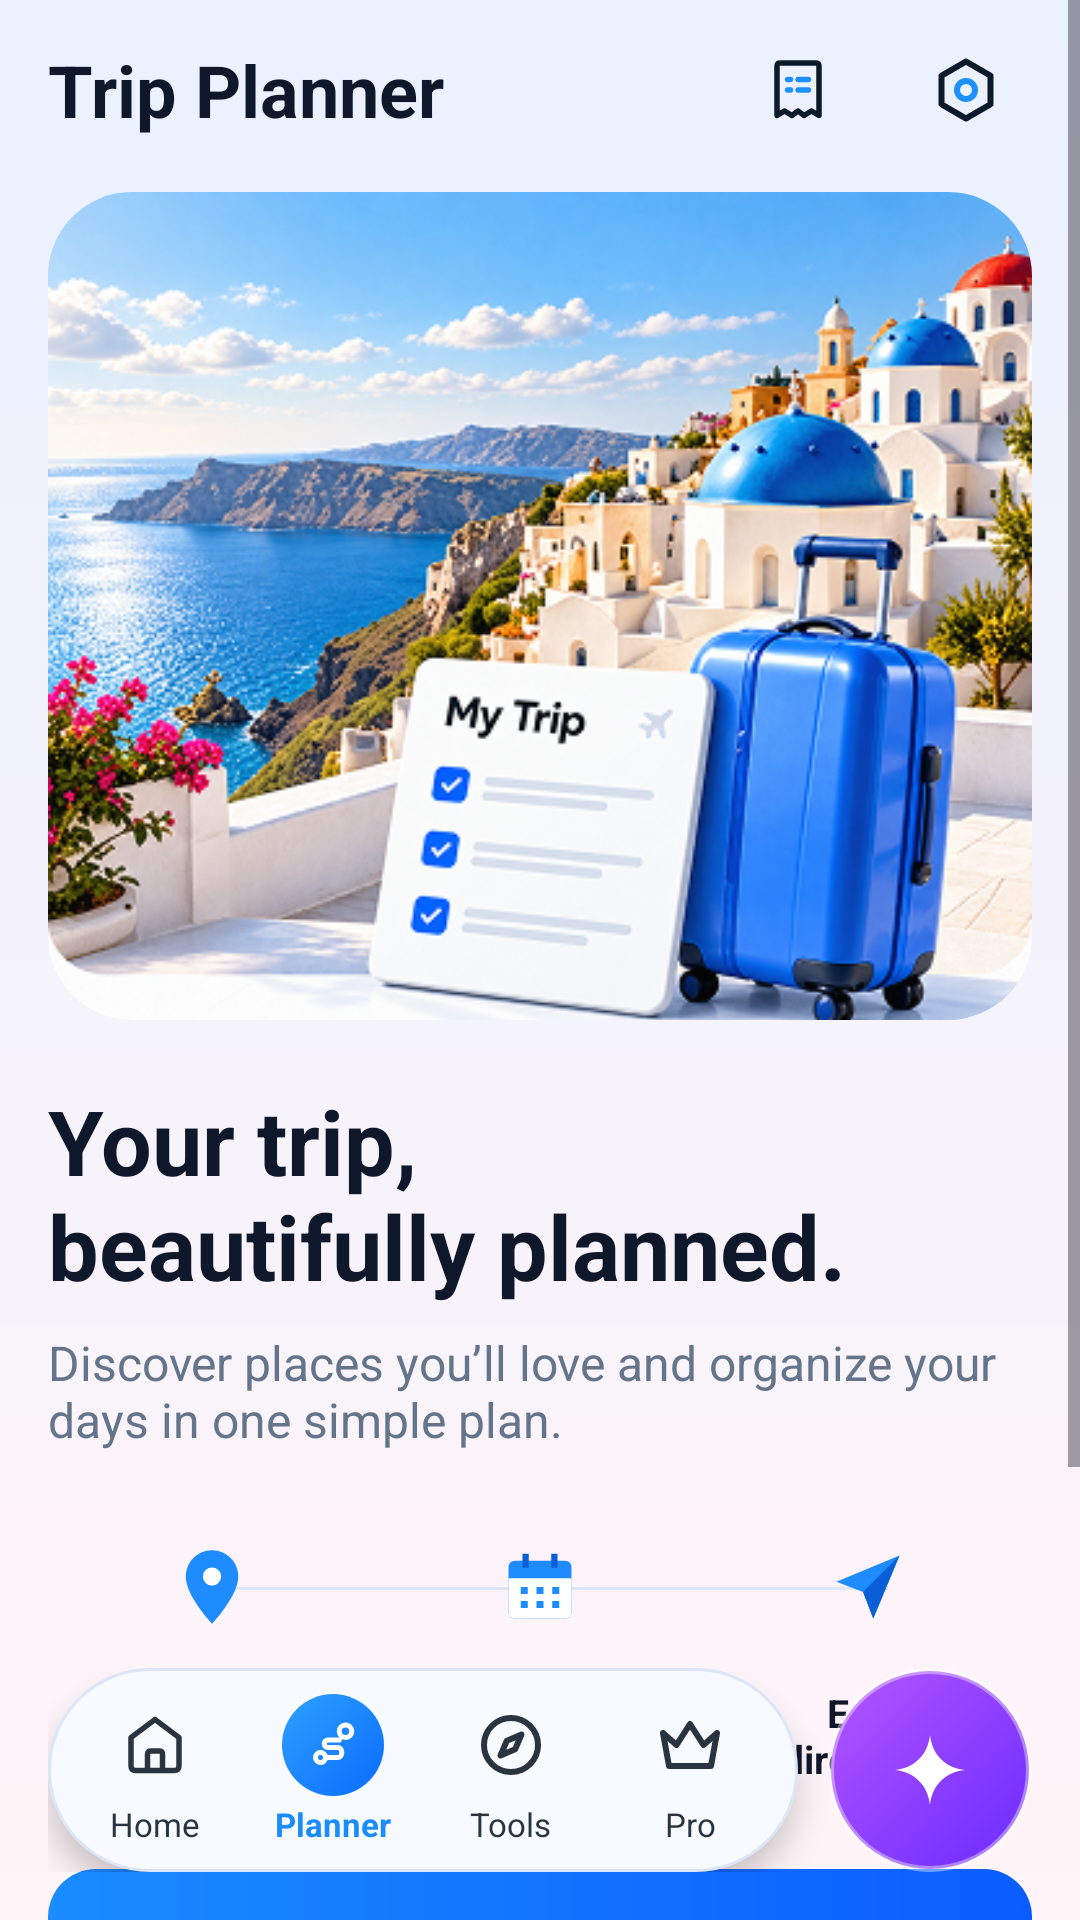

Locate icon controls on the screen. Image size 1080x1920, boxes as box=[x1, y1, x2, y2].
Ask AI: box=[828, 1671, 1029, 1872]
home crown: box=[660, 1721, 720, 1769]
My trips: box=[774, 60, 822, 119]
Settings: box=[938, 58, 994, 122]
